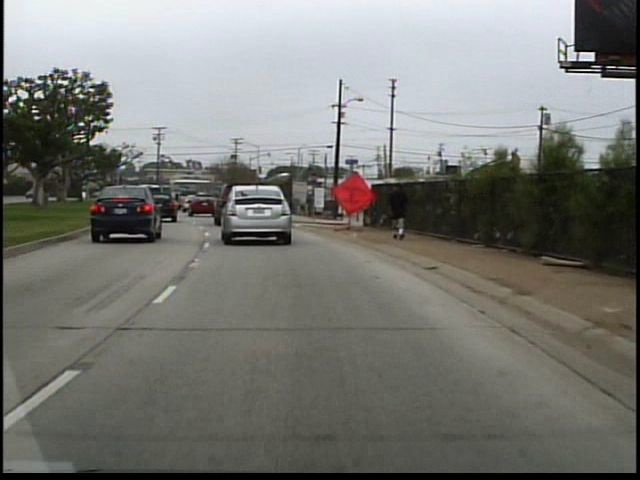person: (385, 177, 417, 245)
